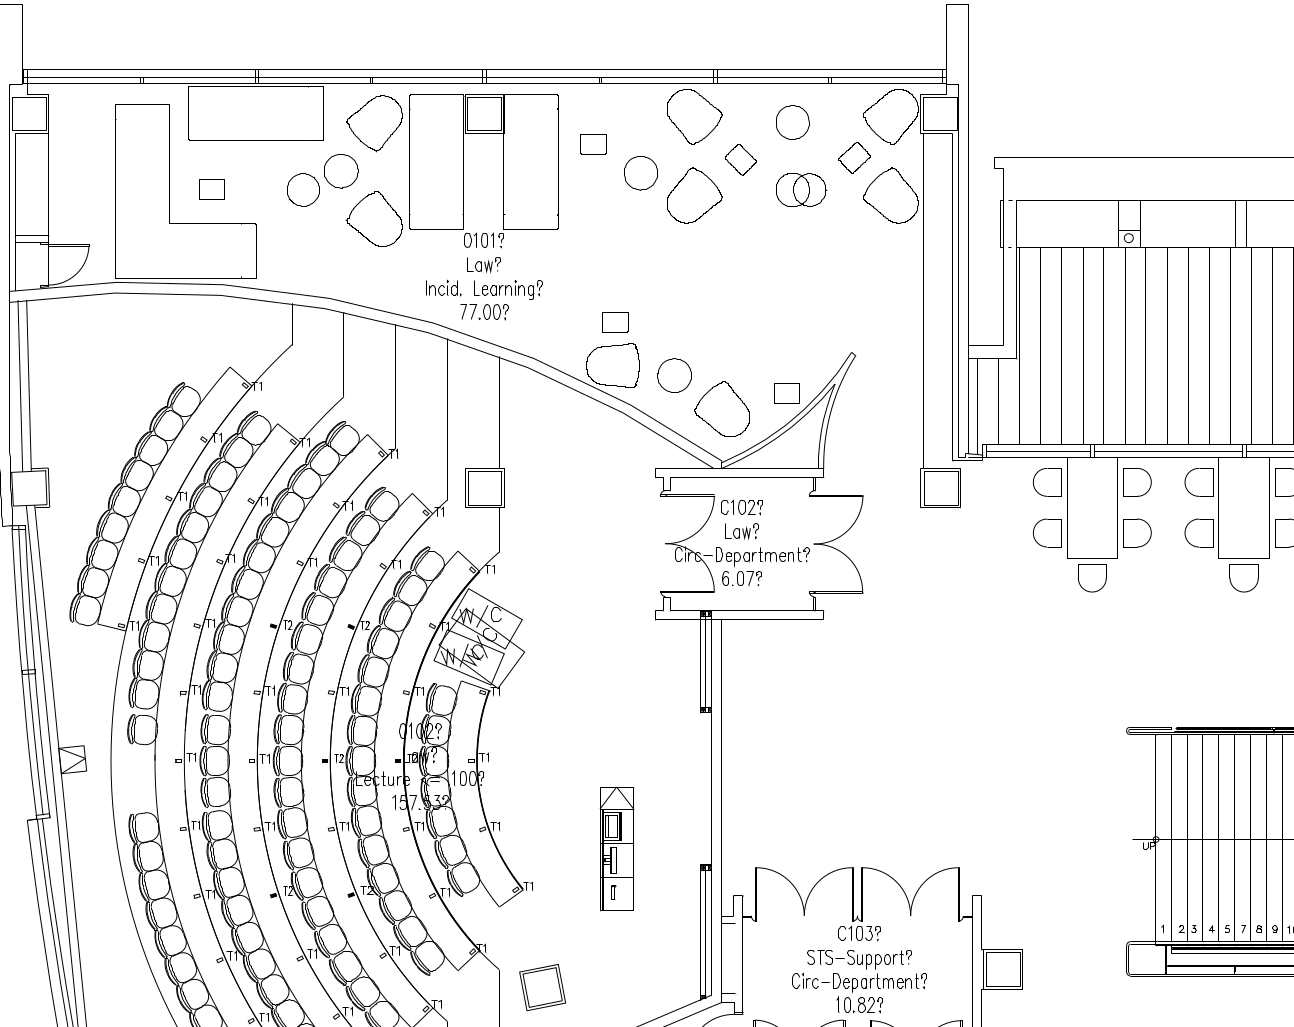door: (803, 861, 860, 931), (907, 859, 964, 929), (749, 859, 805, 929), (857, 859, 913, 929), (807, 490, 871, 546), (807, 543, 871, 599), (656, 544, 721, 600), (658, 488, 721, 544), (44, 240, 91, 290)
